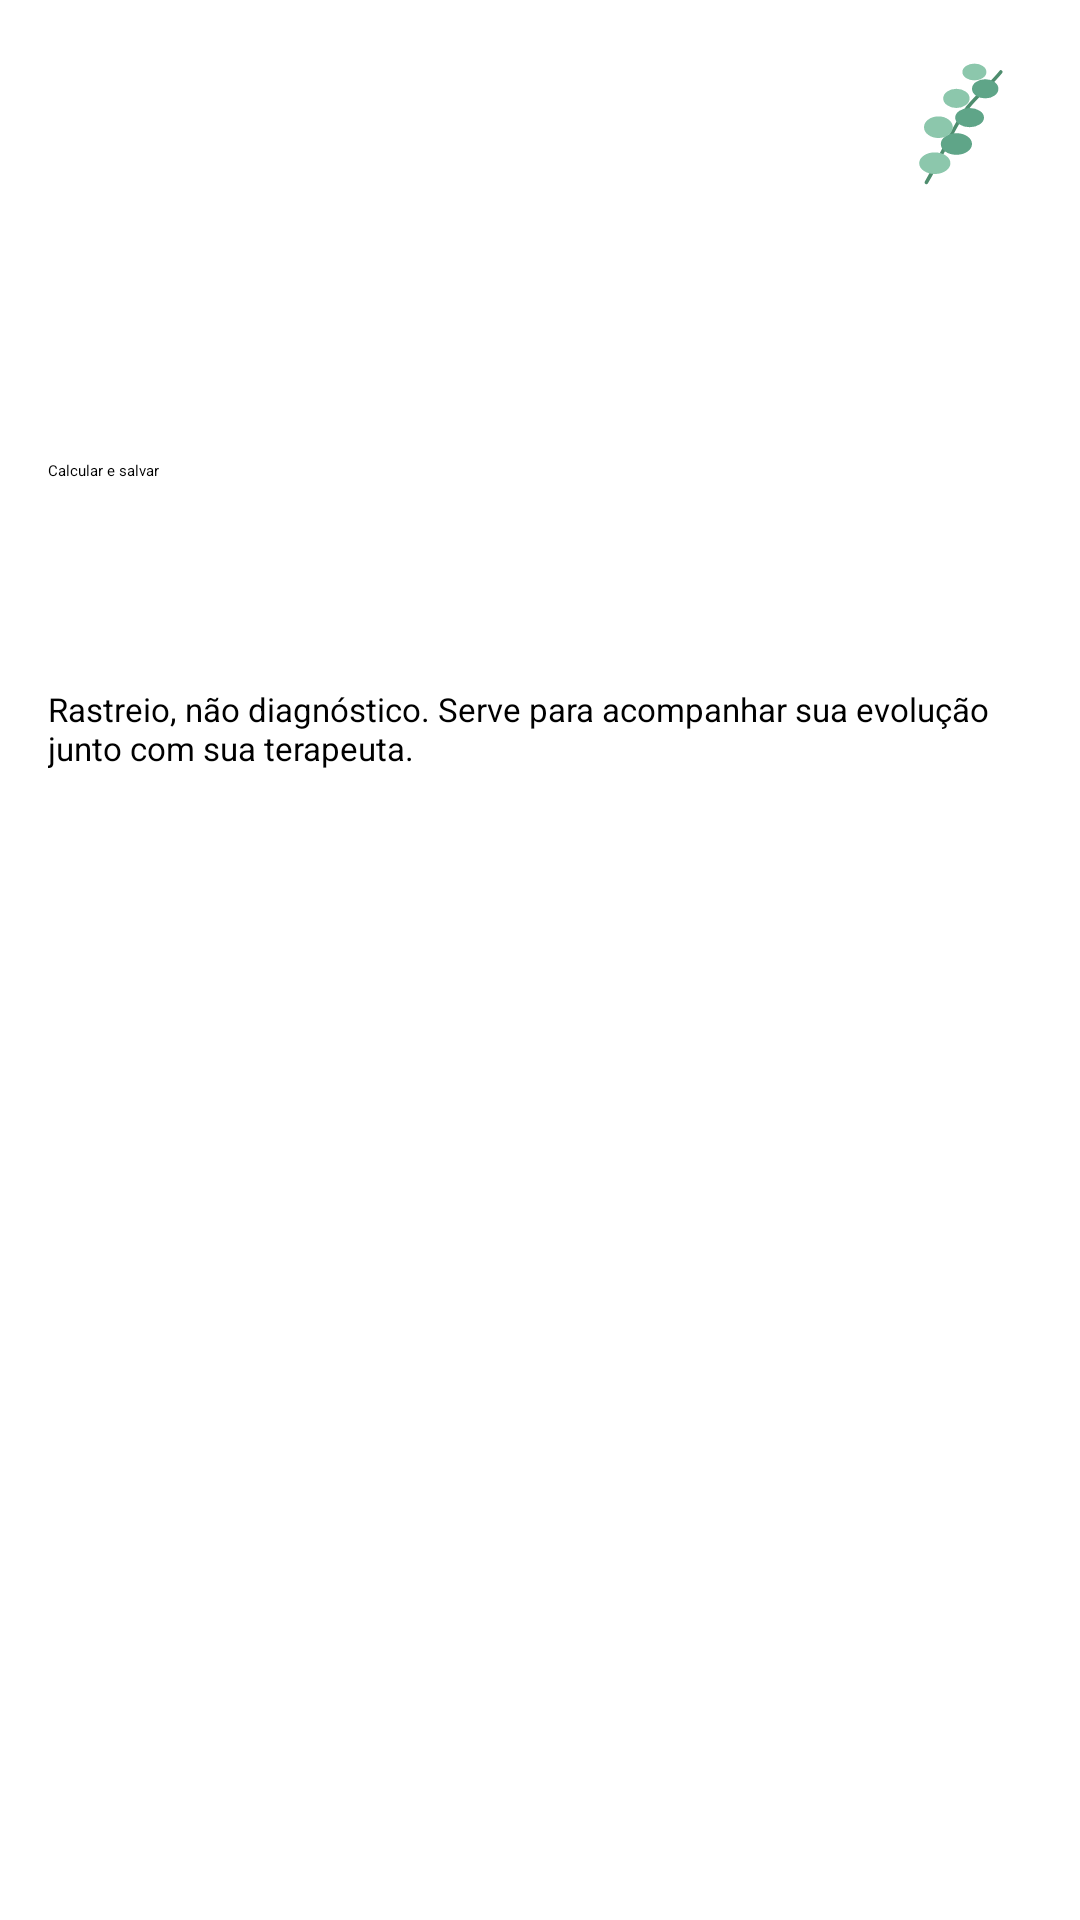

Icons on this 1080 x 1920 Android screen, each with its box as detection(x1, y1, x2, y2):
sprig: detection(919, 63, 1003, 185)
